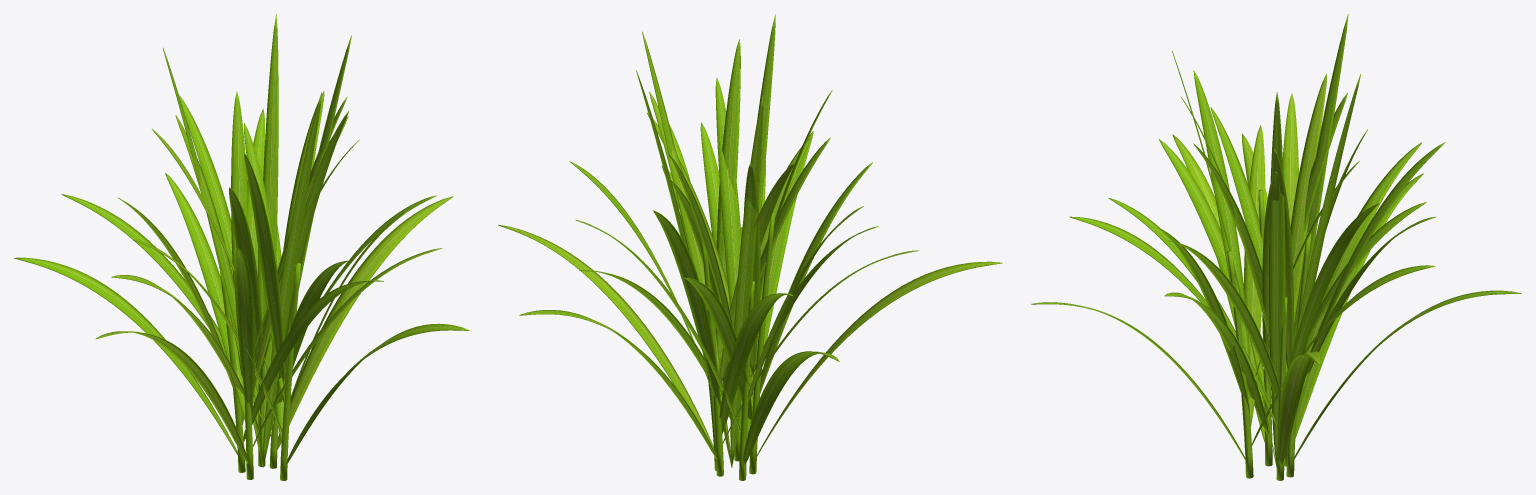
Rendered from NP_Rice_Young.fbx.
The picture shows the model from 3 angles, left to right: view 1: azimuth 30°, elevation 25°; view 2: azimuth 150°, elevation 25°; view 3: azimuth 270°, elevation 25°; orthographic projection. The views are drawn at different scales.
Parts seen in each view (by area): view 1: NP_Rice_Young; view 2: NP_Rice_Young; view 3: NP_Rice_Young.
Part boxes in pixels (<box>): NP_Rice_Young: <box>14,14,469,480</box>; NP_Rice_Young: <box>498,14,1002,480</box>; NP_Rice_Young: <box>1031,14,1521,480</box>.
Bounding box in the file's own units: 85.1 × 78.62 × 81.94.
